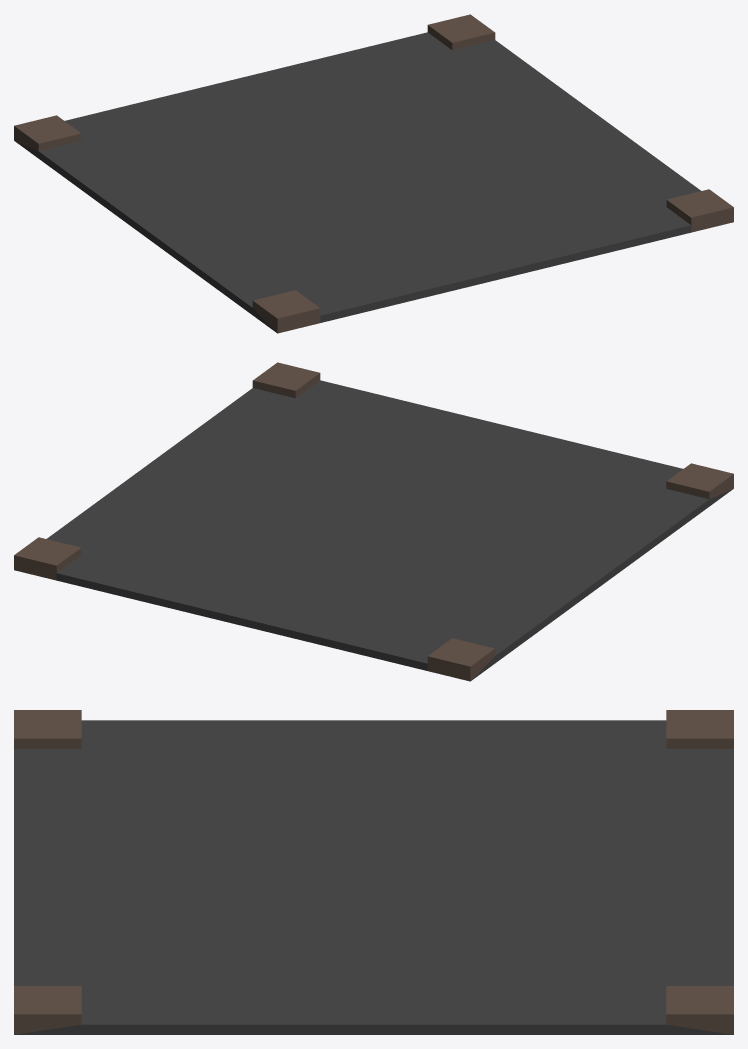
The model's file is left_top_bottom_right.glb.
3 renders of one model, top to bottom at view 1: azimuth 30°, elevation 25°; view 2: azimuth 150°, elevation 25°; view 3: azimuth 270°, elevation 25°, orthographic. The views are drawn at different scales.
Parts seen in each view (by area): view 1: Maxis-3d1-mesh-74; view 2: Maxis-3d1-mesh-74; view 3: Maxis-3d1-mesh-74.
Boxes of the visible parts, bbox=[...] form: Maxis-3d1-mesh-74: bbox=[14, 14, 733, 333]; Maxis-3d1-mesh-74: bbox=[14, 362, 733, 681]; Maxis-3d1-mesh-74: bbox=[14, 710, 733, 1034].
Bounding box in the file's own units: 16 × 0.5 × 16.
